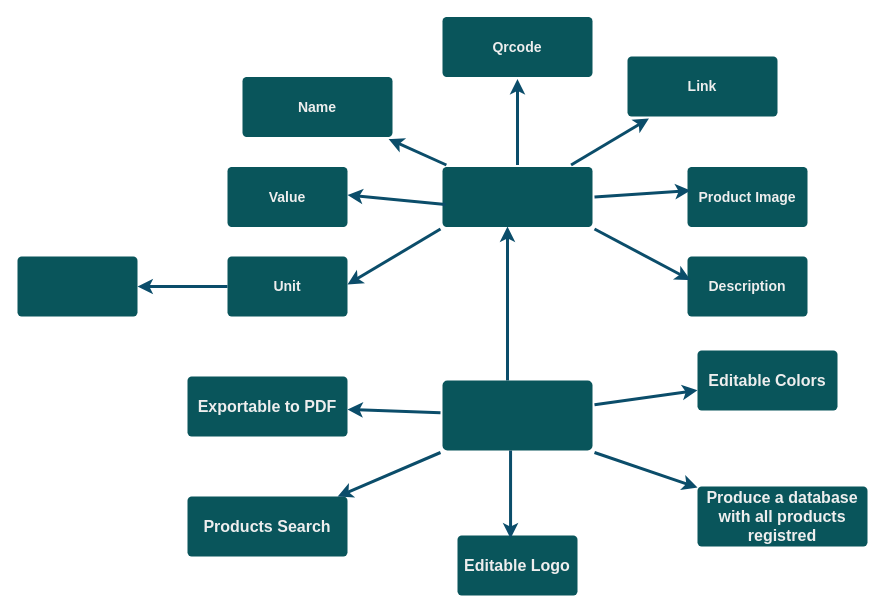
Image size: 884x613. Some labels were removed from this diagram. The centre of each missing label's shape, as x and y in pixels:
"Products" goes at point (517, 196).
"Products List" goes at point (517, 415).
"Unit Register" goes at point (77, 286).
